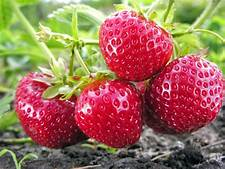Fresa: (142, 49, 225, 139), (96, 6, 178, 88), (11, 67, 88, 153), (73, 74, 149, 153)
